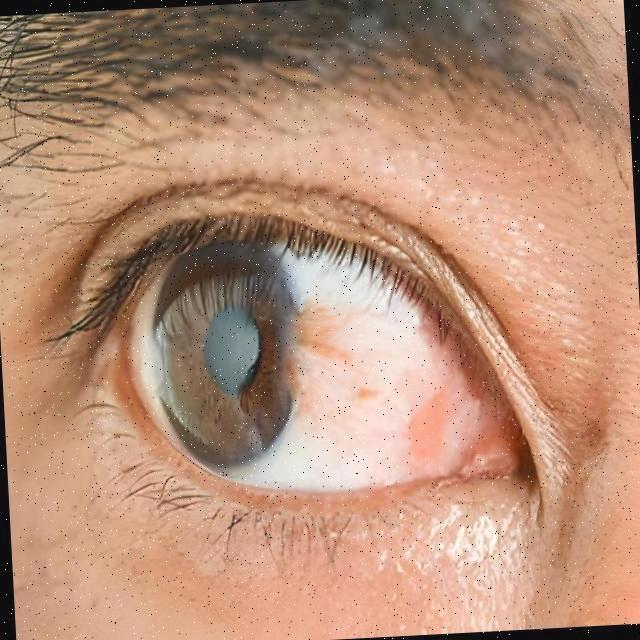Pterygium: (277, 292, 491, 479)
